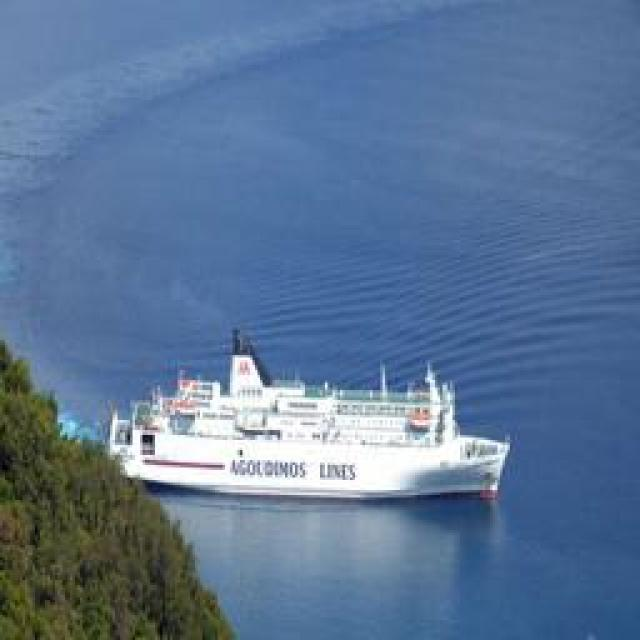ship2: (108, 327, 511, 502)
